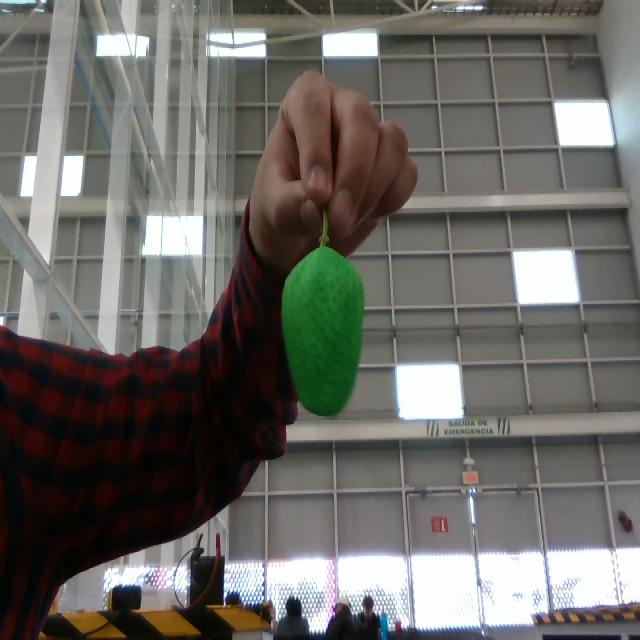verde: (283, 244, 366, 418)
